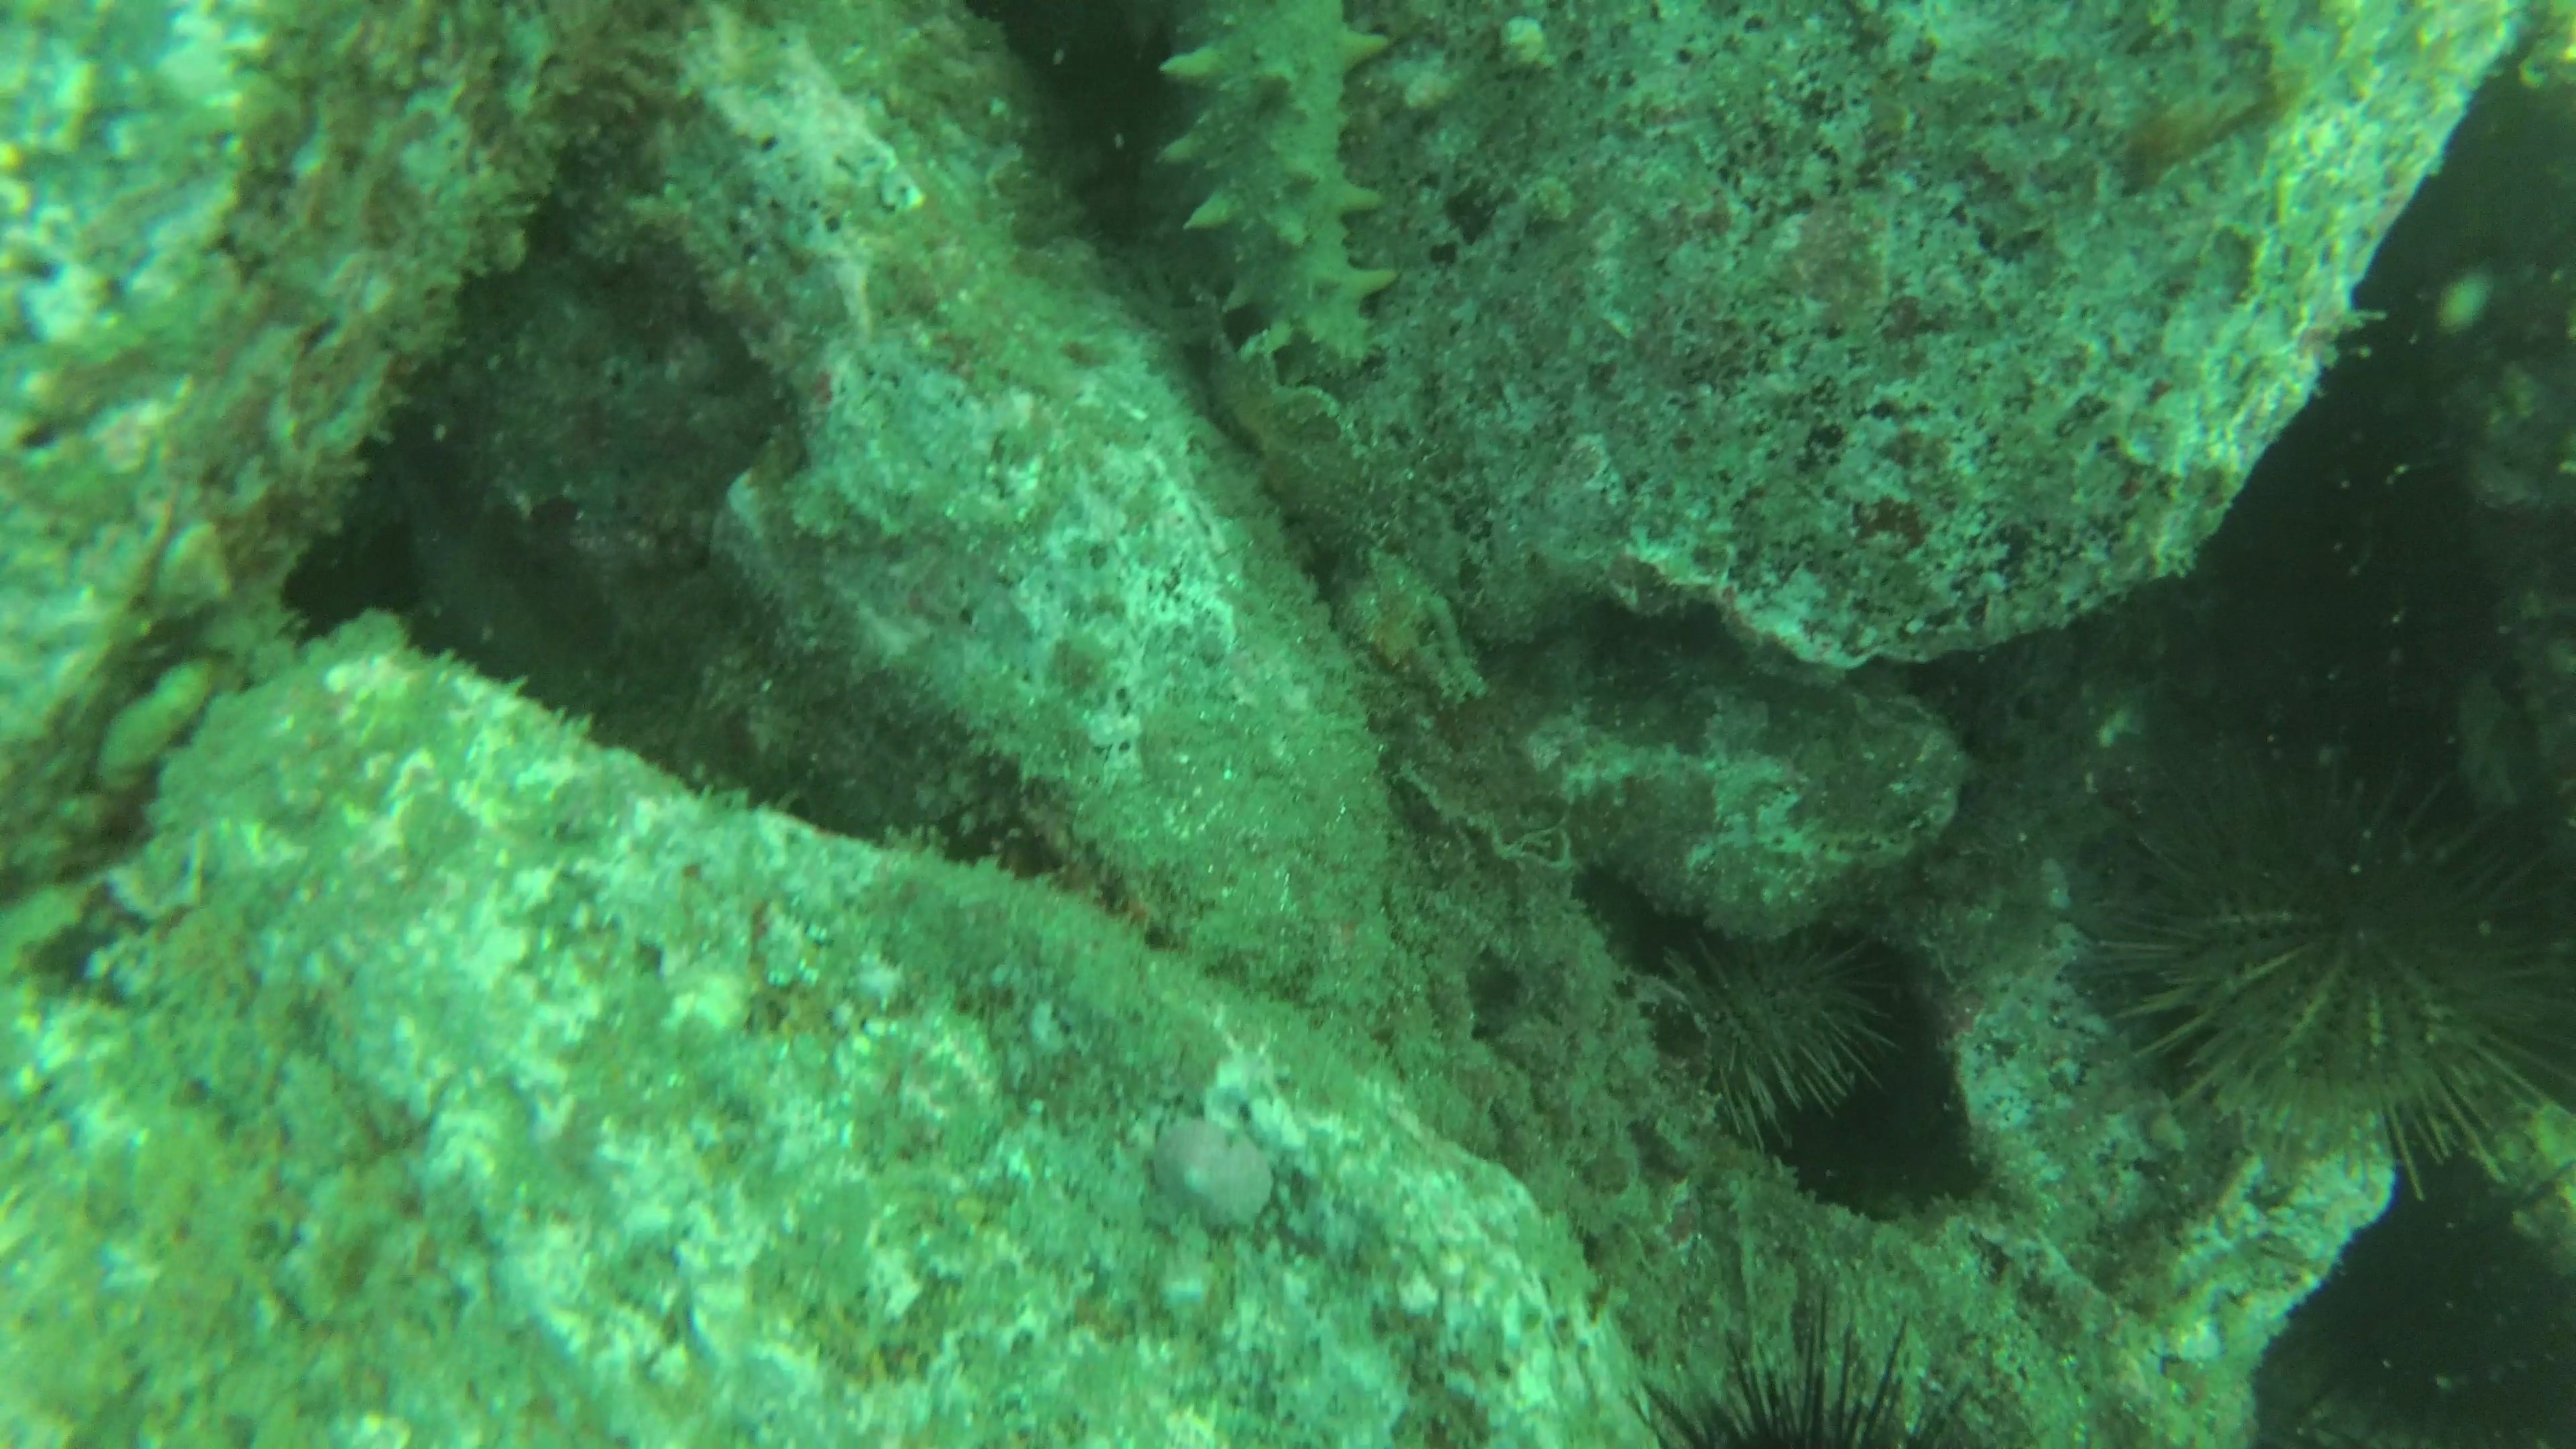echinus: (2088, 732, 2574, 1192), (1633, 909, 1913, 1141), (1621, 1302, 1976, 1444)
holothurian: (1145, 0, 1407, 384)
